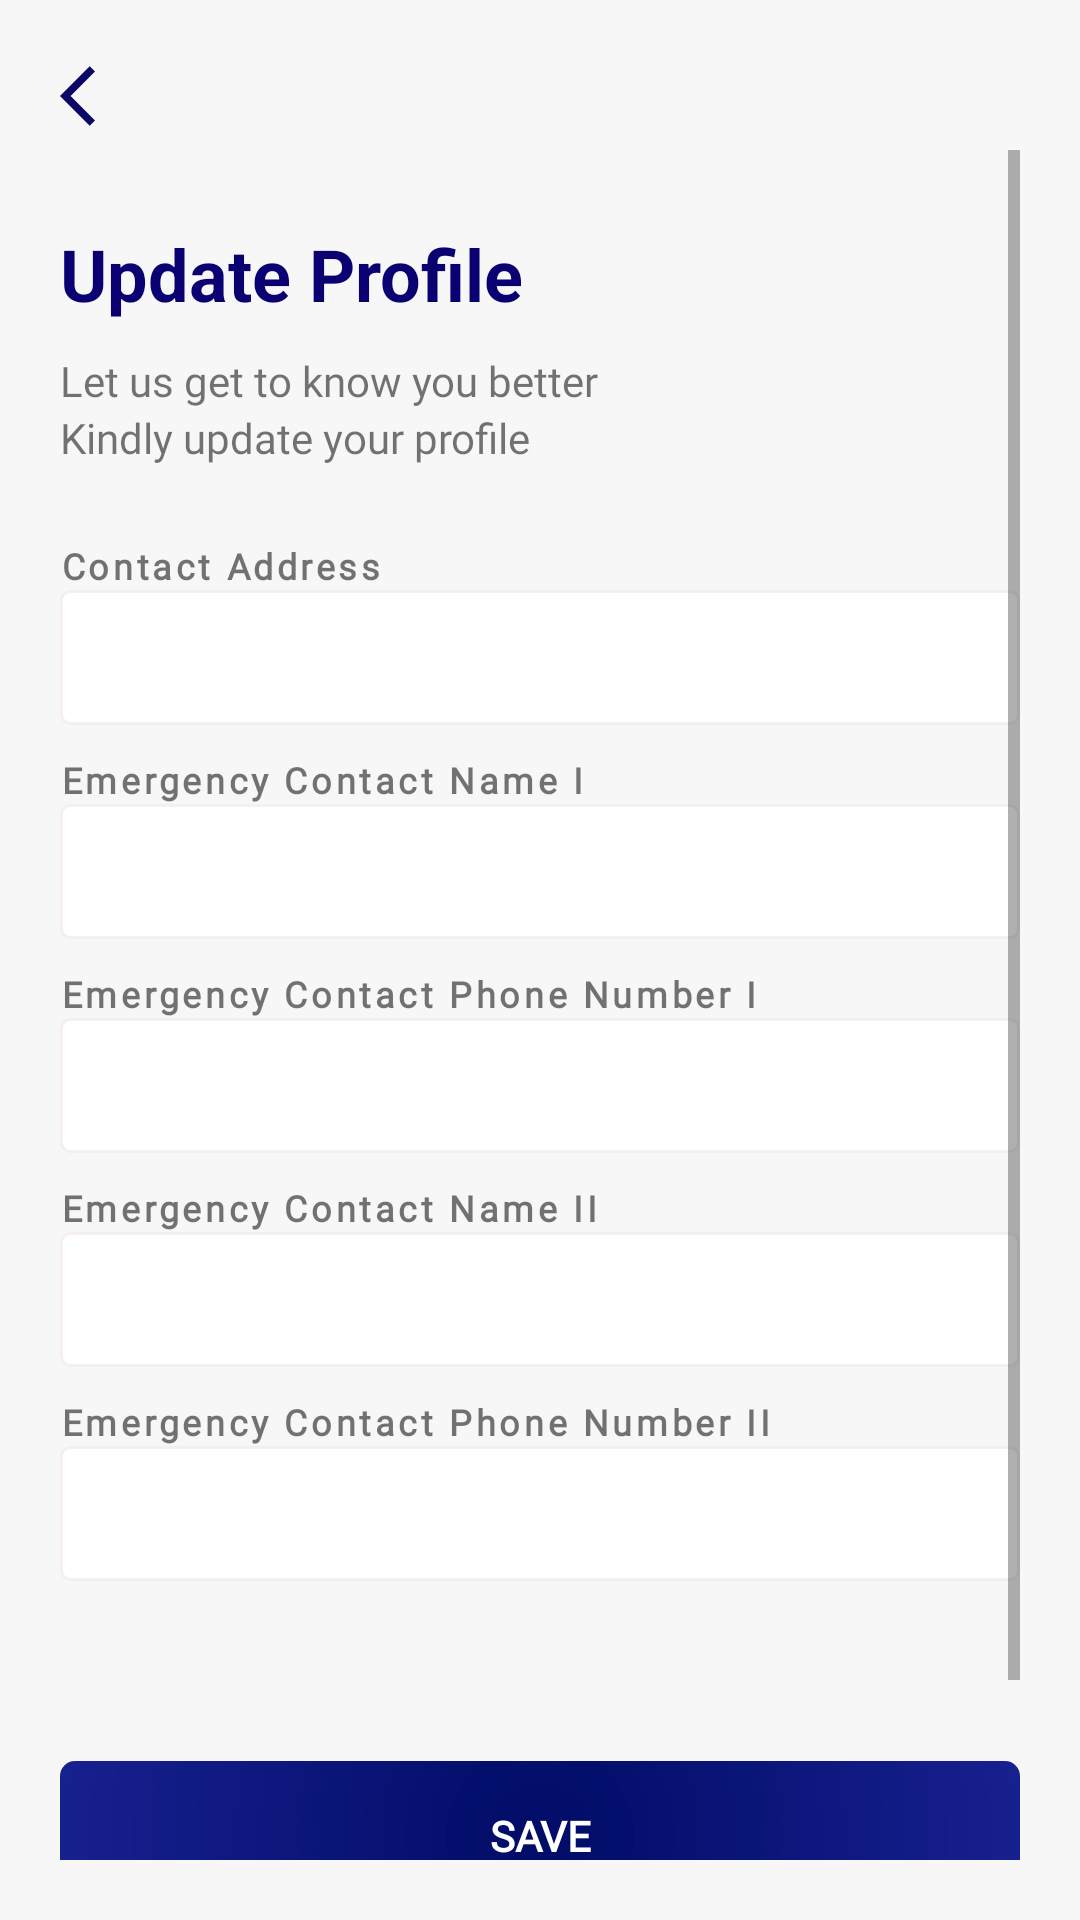

Where to tap for icons on this 1080*1920 app screen, as (x,y):
back: (77,96)
